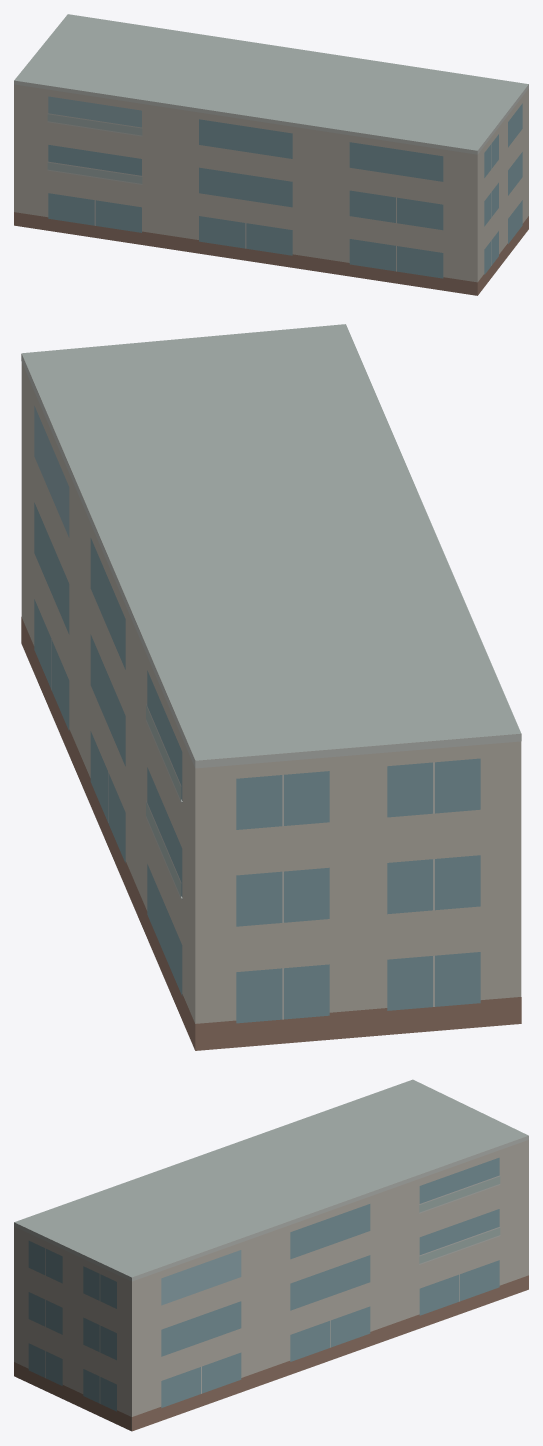
The model's file is survey-upis-32946028.glb.
3 renders of one model, top to bottom at view 1: azimuth 30°, elevation 25°; view 2: azimuth 150°, elevation 25°; view 3: azimuth 270°, elevation 25°, orthographic. The views are drawn at different scales.
Parts seen in each view (by area): view 1: survey-upis-32946028.tmp; view 2: survey-upis-32946028.tmp; view 3: survey-upis-32946028.tmp.
Boxes of the visible parts, left/top/right/bottom form: survey-upis-32946028.tmp: left=14, top=14, right=528, bottom=295; survey-upis-32946028.tmp: left=21, top=324, right=521, bottom=1050; survey-upis-32946028.tmp: left=14, top=1079, right=528, bottom=1431.
Bounding box in the file's own units: 25.25 × 9.15 × 27.74.
